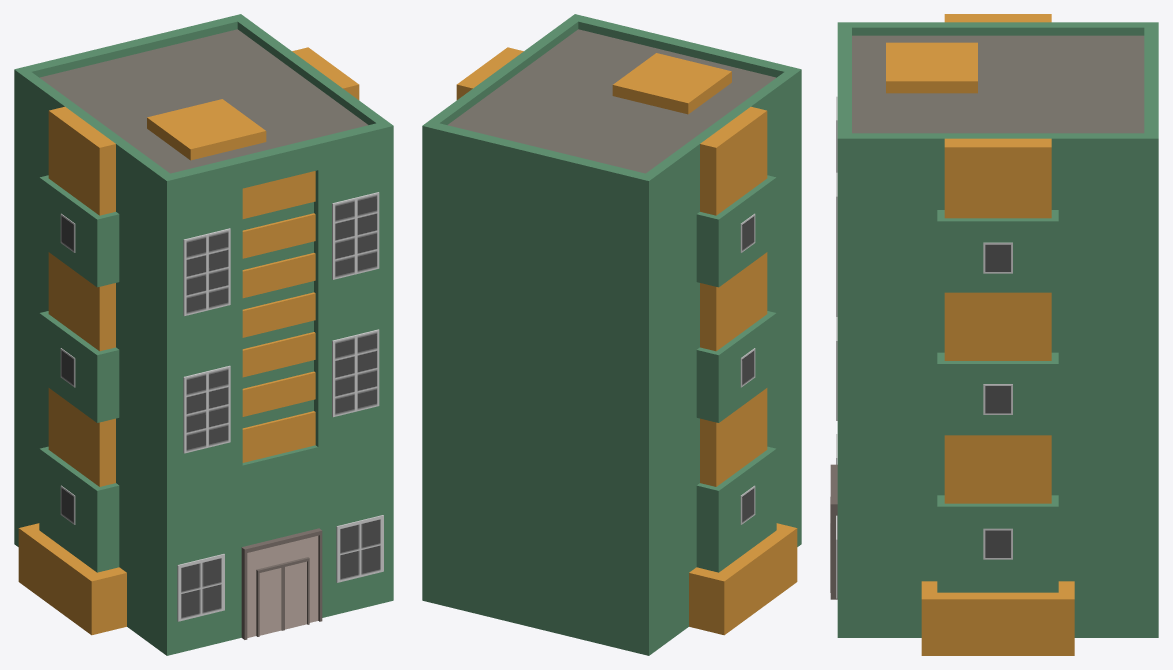
File: building06_color03.fbx
3 renders of one model, left to right at view 1: azimuth 30°, elevation 25°; view 2: azimuth 150°, elevation 25°; view 3: azimuth 270°, elevation 25°, orthographic. The views are drawn at different scales.
Visible parts, largest first — view 1: building06_color03; view 2: building06_color03; view 3: building06_color03.
Part boxes in pixels (bbox=[...]): building06_color03: bbox=[14, 14, 393, 655]; building06_color03: bbox=[422, 14, 801, 655]; building06_color03: bbox=[830, 14, 1158, 655].
Size of the model in its own units: 949 by 1457 by 863.
